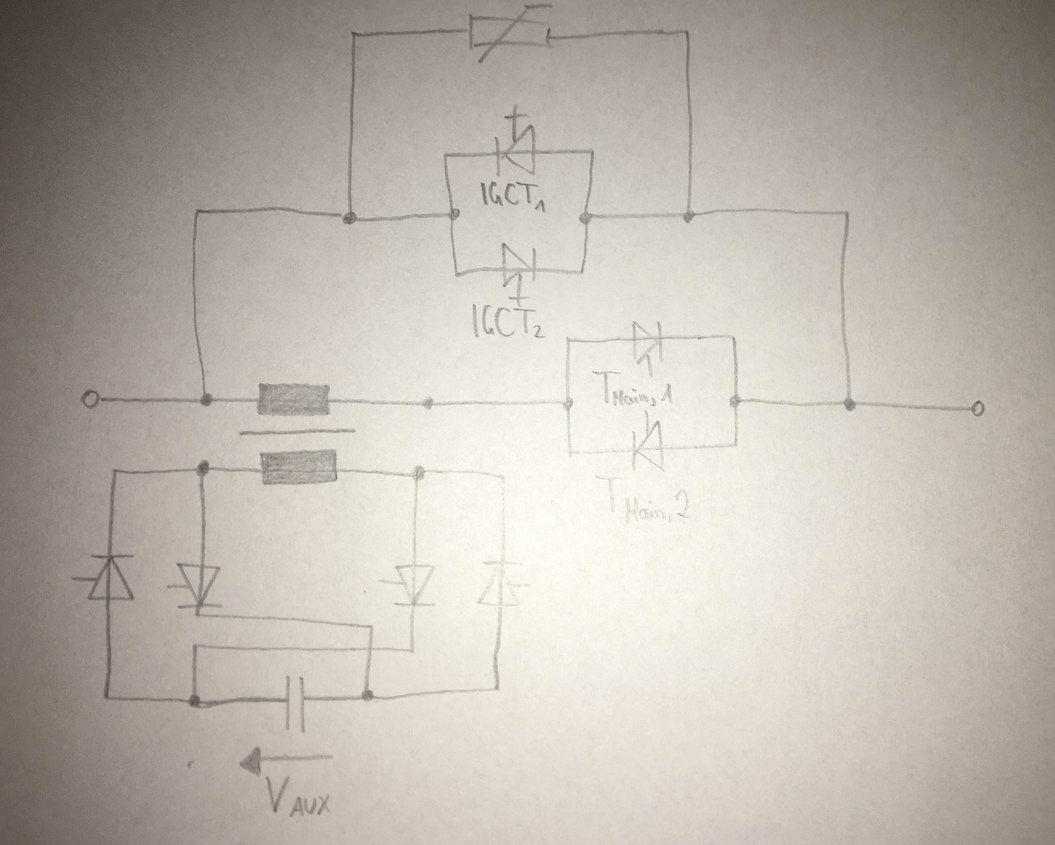capacitor.unpolarized: (280, 671, 309, 737)
crossover: (364, 642, 377, 655)
junction: (339, 209, 360, 227), (680, 207, 698, 226), (194, 459, 212, 478), (408, 463, 426, 482), (186, 693, 206, 710), (198, 391, 216, 409), (577, 209, 596, 226), (841, 394, 857, 413), (726, 392, 743, 409), (359, 687, 377, 703), (444, 206, 462, 221), (560, 395, 575, 413), (575, 265, 589, 279), (729, 438, 743, 452), (565, 446, 578, 460), (100, 690, 114, 703), (840, 207, 854, 219), (727, 332, 740, 344), (406, 644, 419, 656), (489, 683, 503, 694), (495, 471, 509, 482), (586, 145, 598, 157), (452, 268, 463, 281), (563, 333, 574, 346), (440, 150, 452, 161), (109, 465, 120, 477), (189, 641, 202, 651), (192, 204, 202, 217), (348, 28, 359, 39), (365, 622, 377, 632), (680, 26, 692, 36), (192, 610, 203, 620)
terminal: (78, 388, 106, 410), (967, 398, 987, 419)
text: (593, 473, 693, 525), (591, 369, 674, 408), (264, 773, 332, 818), (469, 302, 547, 341), (479, 178, 549, 216)
thyristor: (492, 108, 538, 179), (500, 240, 540, 306), (86, 552, 137, 602), (475, 559, 524, 609), (174, 561, 224, 609), (391, 563, 437, 608), (630, 419, 667, 474), (630, 320, 665, 367)
transformer: (237, 380, 358, 488)
varistor: (466, 2, 555, 65)
